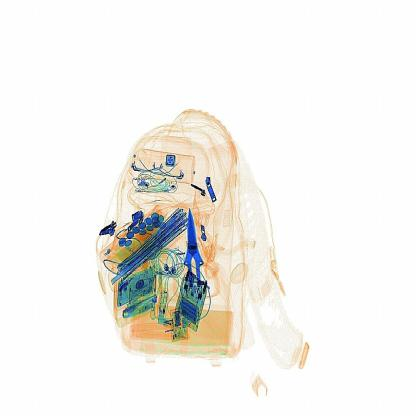gun: (173, 200, 220, 302)
